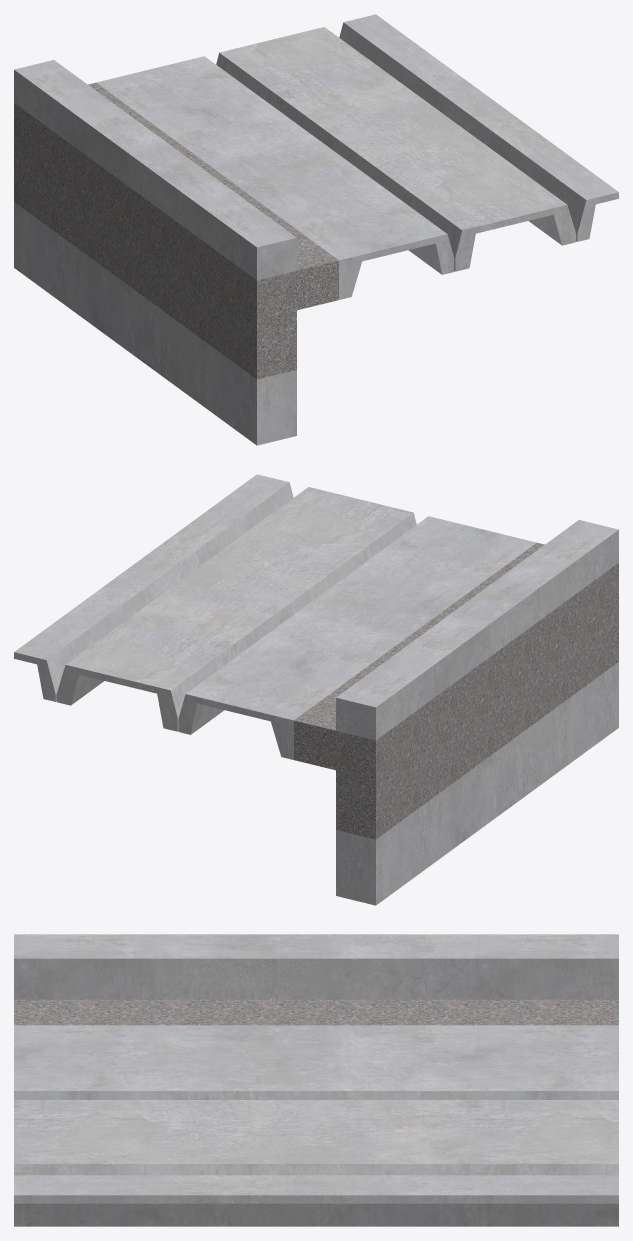
File: channel-upright.glb
3 views of the same model, one above another, from view 1: azimuth 30°, elevation 25°; view 2: azimuth 150°, elevation 25°; view 3: azimuth 270°, elevation 25° (orthographic). The views are drawn at different scales.
Visible parts, largest first — view 1: 正放槽形板, 墙, 墙内梁-右侧挑肩支承; view 2: 正放槽形板, 墙, 墙内梁-右侧挑肩支承; view 3: 正放槽形板, 墙, 墙内梁-右侧挑肩支承.
Part boxes in pixels (x1,y1,x2,y2): 正放槽形板: (96,14,618,299); 墙: (14,60,296,445); 墙内梁-右侧挑肩支承: (14,82,338,379); 正放槽形板: (14,474,536,759); 墙: (336,520,618,905); 墙内梁-右侧挑肩支承: (294,542,618,839); 正放槽形板: (14,1025,618,1226); 墙: (14,934,618,999); 墙内梁-右侧挑肩支承: (14,999,618,1025).
Bounding box in the file's own units: 1.72 × 0.9 × 2.
Materials: 3 (3 with a texture image).
